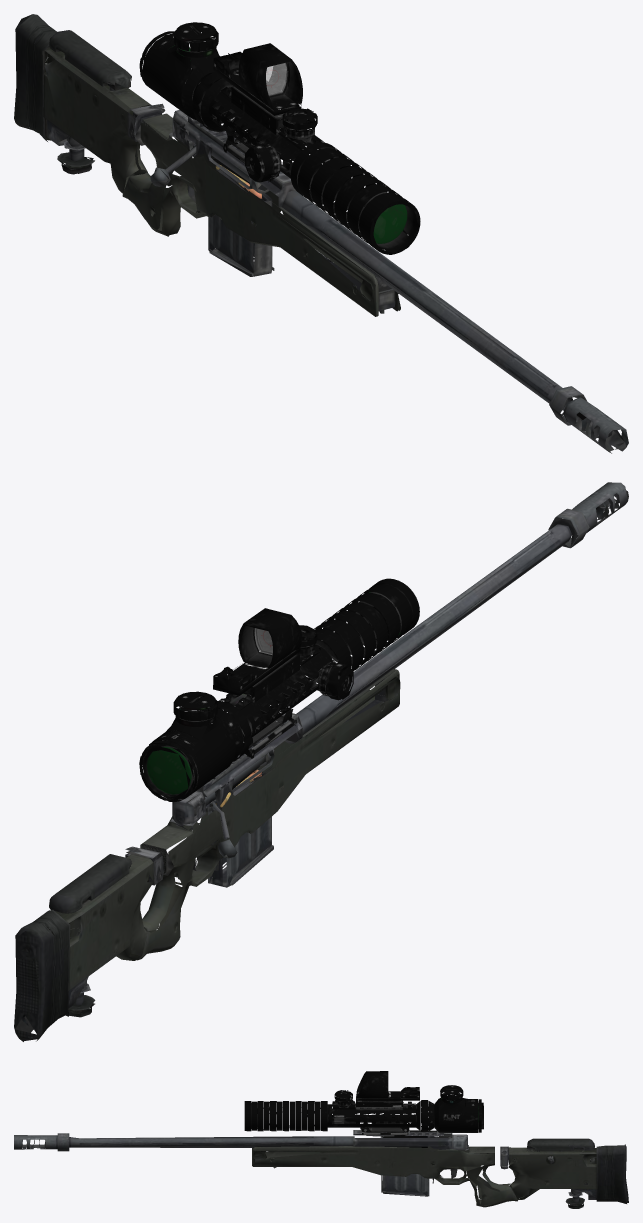
File: sniper_lo.glb
The picture shows the model from 3 angles, top to bottom: view 1: azimuth 30°, elevation 25°; view 2: azimuth 150°, elevation 25°; view 3: azimuth 270°, elevation 25°; orthographic projection. The views are drawn at different scales.
Parts seen in each view (by area): view 1: merged; view 2: merged; view 3: merged.
Part boxes in pixels (x1,y1,x2,y2): merged: (14,14,628,453); merged: (14,482,628,1041); merged: (14,1071,628,1208).
Bounding box in the file's own units: 0.1262 × 0.3985 × 1.68.
4 materials, 4 textured.
